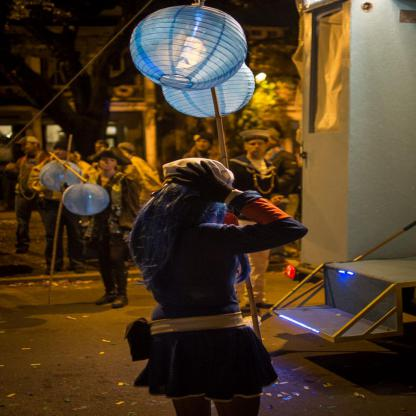face: (248, 141, 267, 157), (100, 156, 118, 170), (196, 139, 212, 151), (55, 147, 69, 159), (22, 142, 36, 154), (261, 137, 273, 150), (96, 145, 107, 153)
